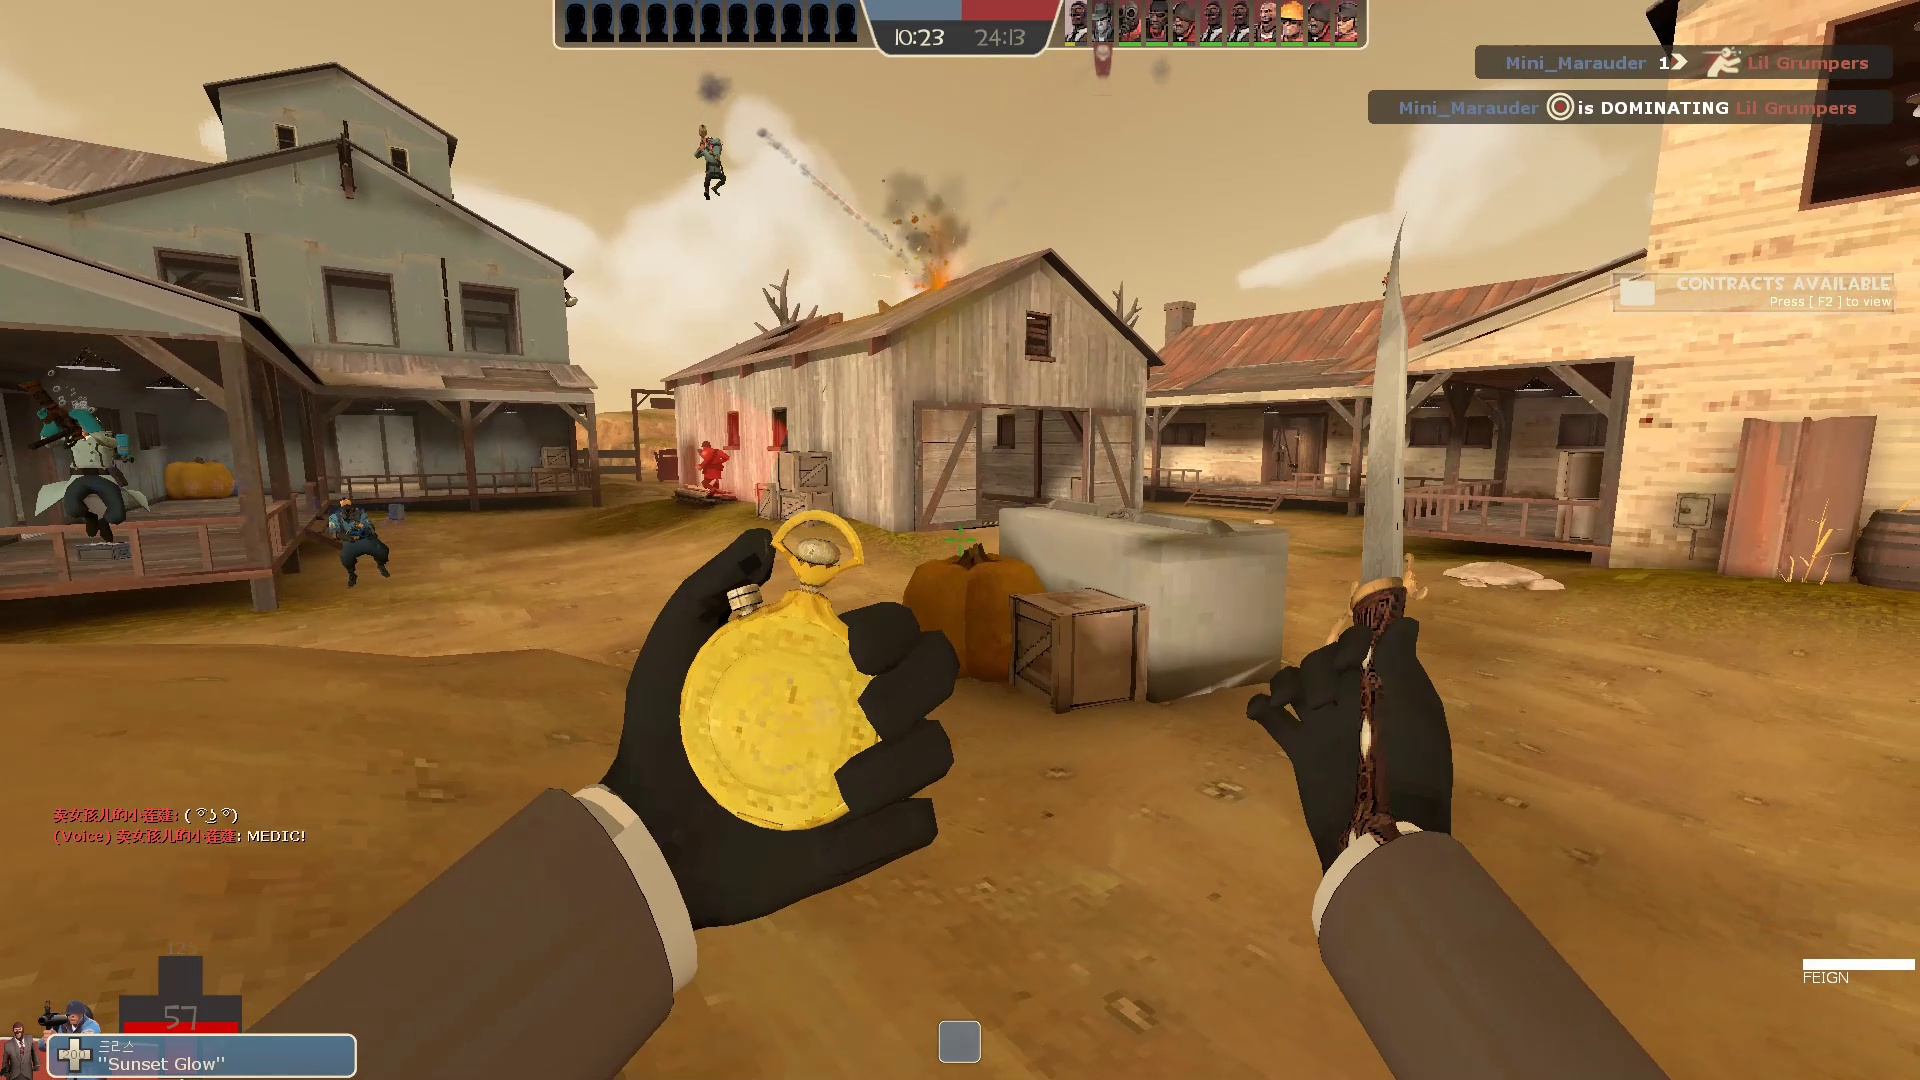blu_medic: (18, 375, 160, 554)
blu_pyro: (320, 491, 396, 589)
blu_soldier: (686, 125, 735, 204)
red_soldier: (694, 435, 731, 508)
